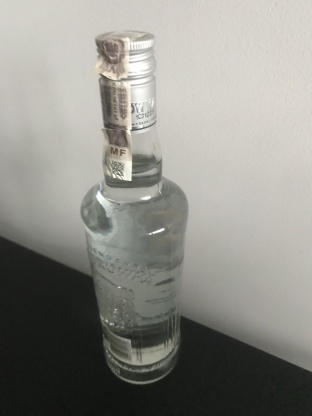nakretka: (93, 27, 158, 134)
